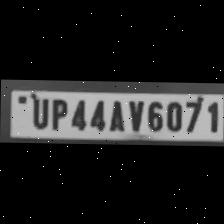0: (162, 97, 182, 130)
1: (200, 98, 222, 131)
4: (66, 95, 88, 130), (86, 95, 106, 130)
6: (144, 96, 164, 131)
7: (181, 97, 201, 132)
A: (106, 96, 127, 130)
P: (46, 95, 68, 129)
U: (28, 94, 48, 128)
V: (124, 96, 144, 131)
